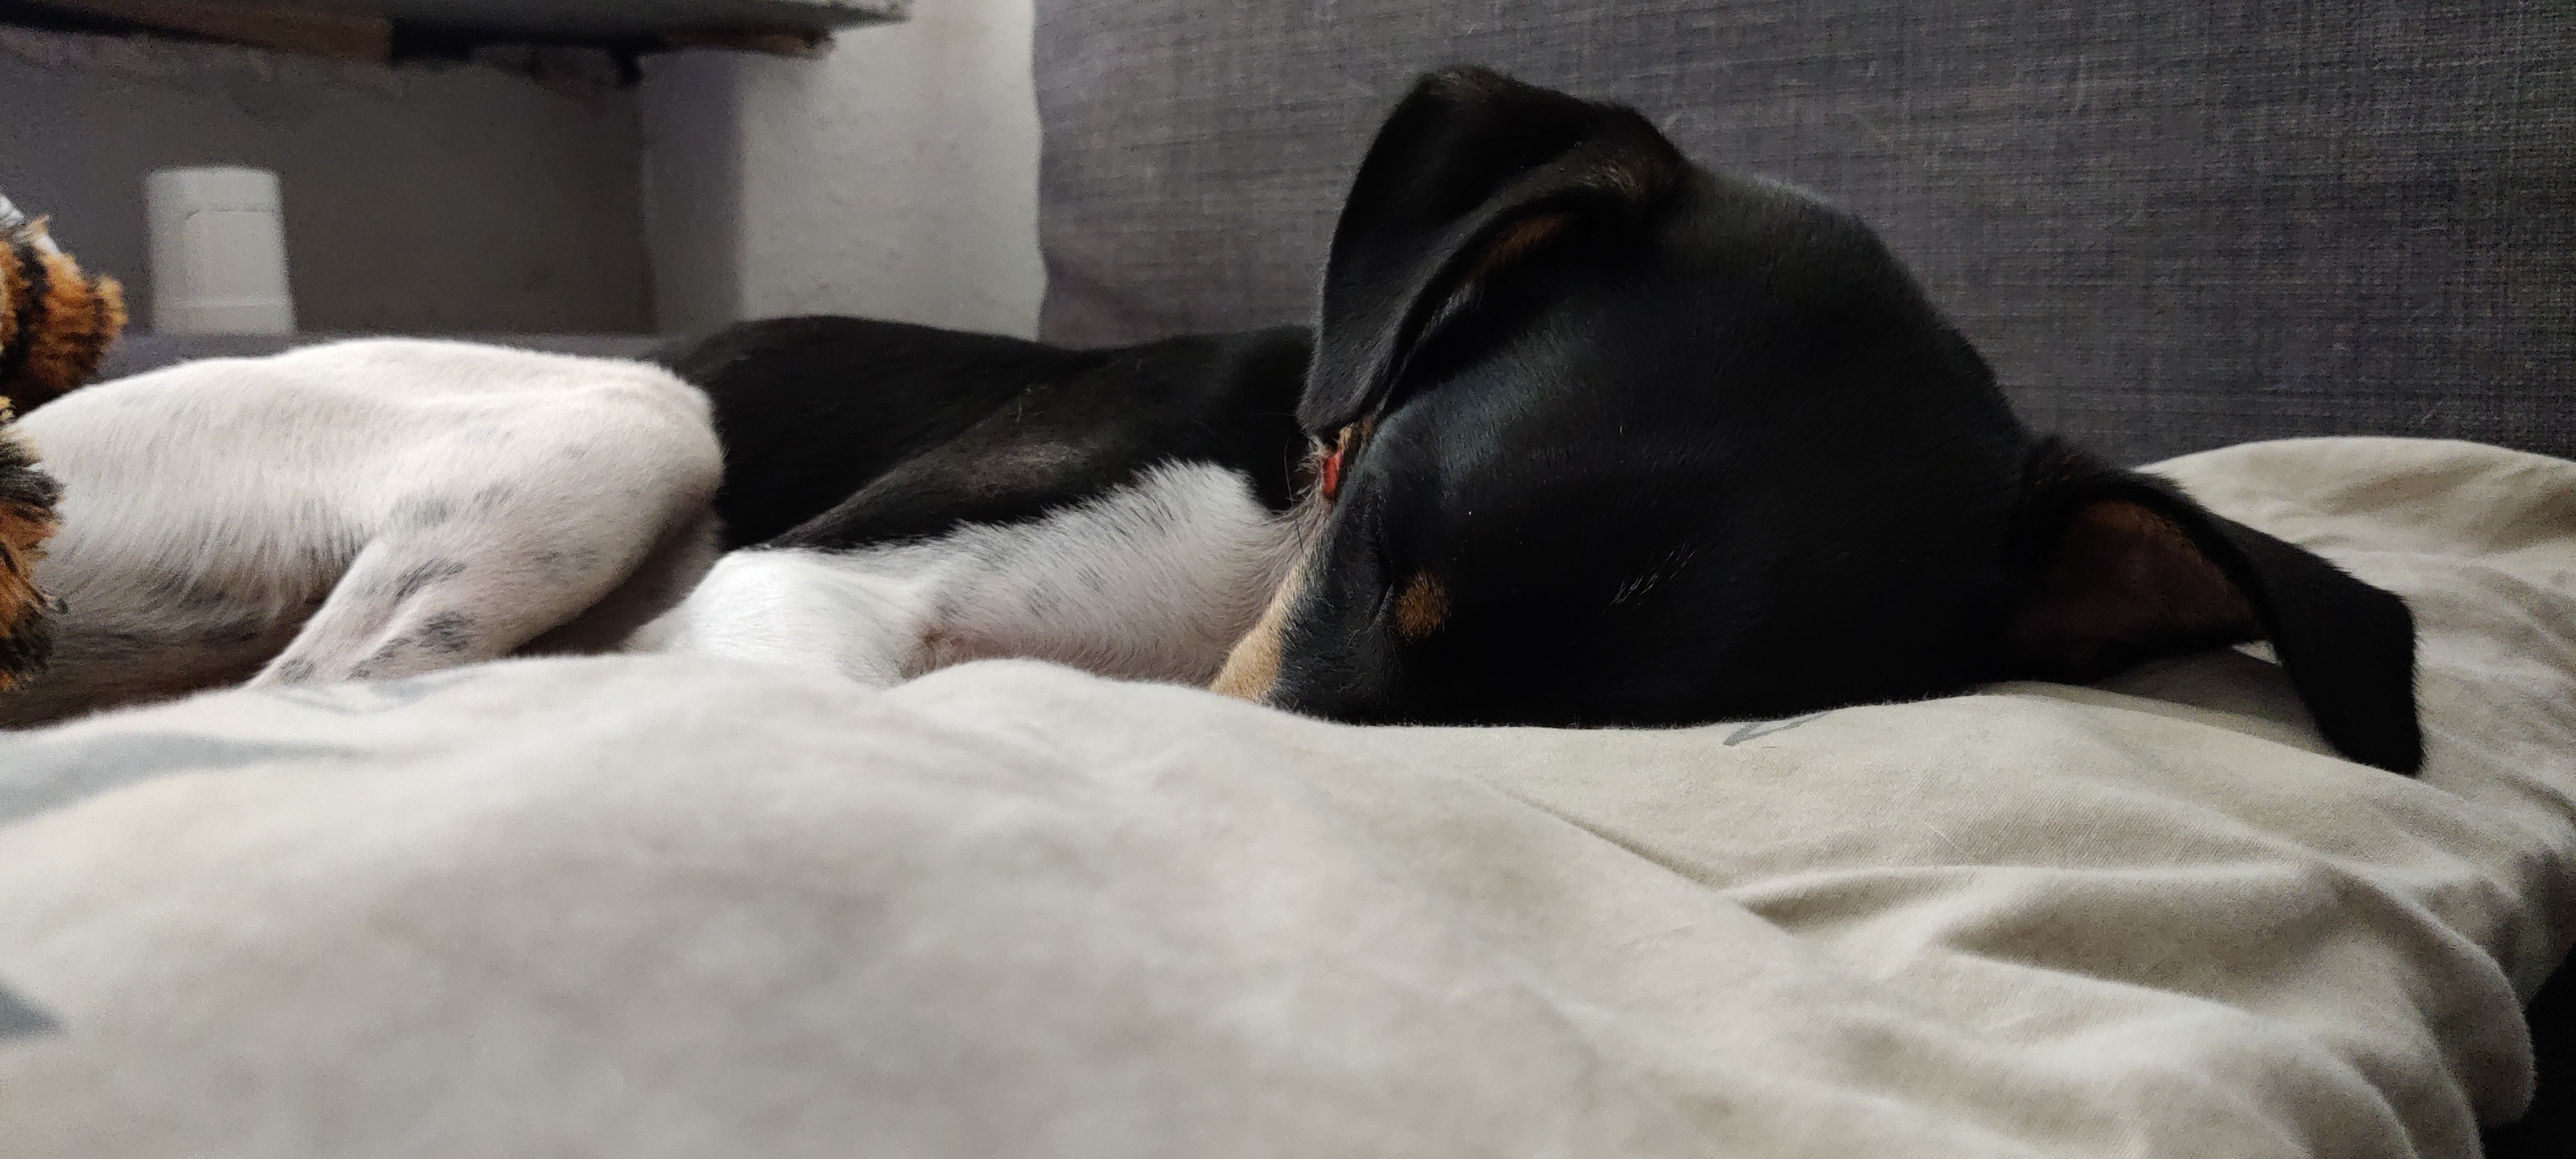Dog: (0, 59, 2440, 793)
